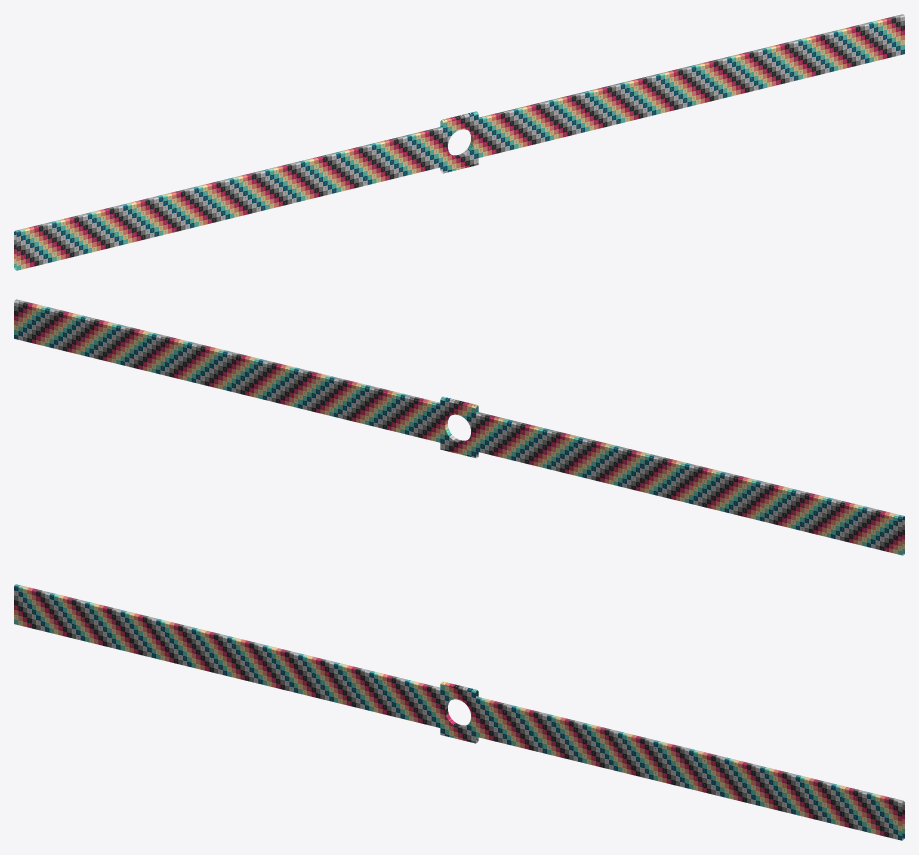
The model's file is panelWindowRound290_manMorph.glb.
3 renders of one model, top to bottom at view 1: azimuth 30°, elevation 25°; view 2: azimuth 150°, elevation 25°; view 3: azimuth 330°, elevation 25°, orthographic.
Visible parts, largest first — view 1: panelWindowRound290MaxWidth, panelWindowRound290, panelWindowRound290MaxHeight; view 2: panelWindowRound290MaxWidth, panelWindowRound290, panelWindowRound290MaxHeight; view 3: panelWindowRound290MaxWidth, panelWindowRound290, panelWindowRound290MaxHeight.
Part boxes in pixels (x1=…): panelWindowRound290MaxWidth: x1=14, y1=14, x2=904, y2=270; panelWindowRound290: x1=441, y1=121, x2=478, y2=164; panelWindowRound290MaxHeight: x1=440, y1=111, x2=478, y2=173; panelWindowRound290MaxWidth: x1=14, y1=299, x2=904, y2=555; panelWindowRound290: x1=440, y1=407, x2=477, y2=451; panelWindowRound290MaxHeight: x1=440, y1=396, x2=478, y2=458; panelWindowRound290MaxWidth: x1=14, y1=584, x2=904, y2=840; panelWindowRound290: x1=440, y1=691, x2=477, y2=736; panelWindowRound290MaxHeight: x1=440, y1=681, x2=478, y2=743.
Size of the model in its own units: 7.5 by 0.42 by 0.04.
1 material, 1 textured.
